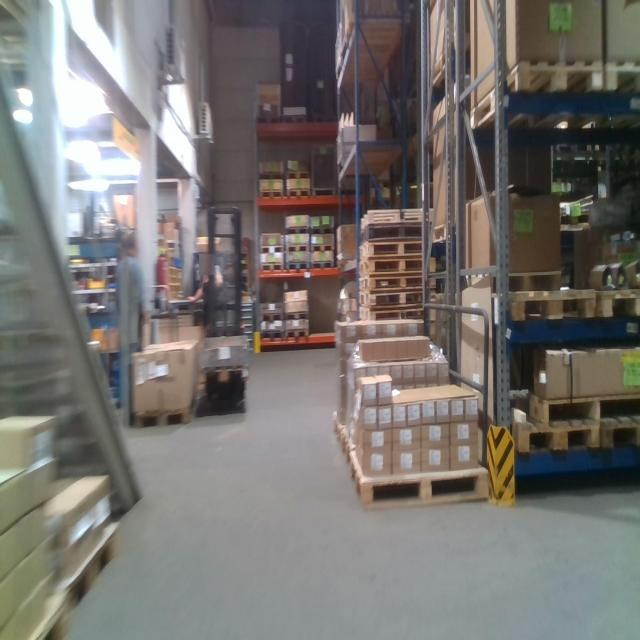pallet: (466, 55, 606, 138), (349, 452, 494, 508), (67, 522, 121, 617), (507, 282, 596, 326), (529, 390, 640, 421), (517, 416, 604, 455), (495, 266, 562, 295), (596, 281, 640, 318), (129, 405, 191, 430), (601, 416, 640, 454), (603, 59, 640, 97), (358, 290, 422, 310), (361, 223, 422, 242), (363, 257, 423, 276), (361, 242, 423, 257), (363, 276, 422, 290), (358, 310, 424, 319), (430, 51, 447, 84), (430, 223, 448, 245), (260, 243, 285, 256), (282, 112, 307, 124), (286, 168, 311, 180), (259, 170, 284, 182), (286, 187, 311, 199), (285, 224, 310, 236), (285, 328, 310, 340), (258, 188, 284, 199), (286, 243, 310, 254), (286, 260, 310, 271), (260, 262, 284, 273), (286, 310, 308, 322), (261, 312, 285, 323), (255, 115, 281, 125), (311, 226, 334, 237), (311, 259, 334, 270), (260, 330, 285, 340), (312, 114, 336, 124), (311, 243, 335, 253)
pallet_truck: (196, 207, 249, 412)
stillage: (311, 140, 336, 192)
